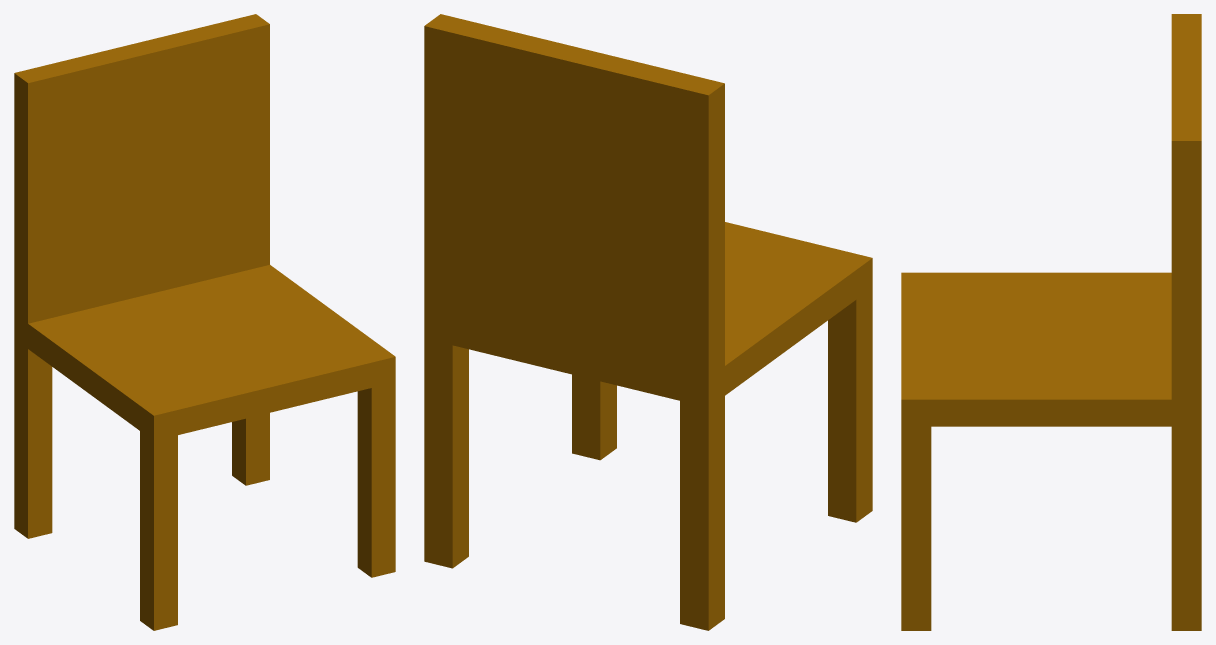
Rendered from chair.fbx.
3 renders of one model, left to right at view 1: azimuth 30°, elevation 25°; view 2: azimuth 150°, elevation 25°; view 3: azimuth 270°, elevation 25°, orthographic. The views are drawn at different scales.
Visible parts, largest first — view 1: Cube; view 2: Cube; view 3: Cube.
Boxes of the visible parts, x1,y1,x2,y2 form: Cube: (14,14,395,630); Cube: (424,14,872,630); Cube: (901,14,1201,630).
Size of the model in its own units: 200 by 360 by 200.
